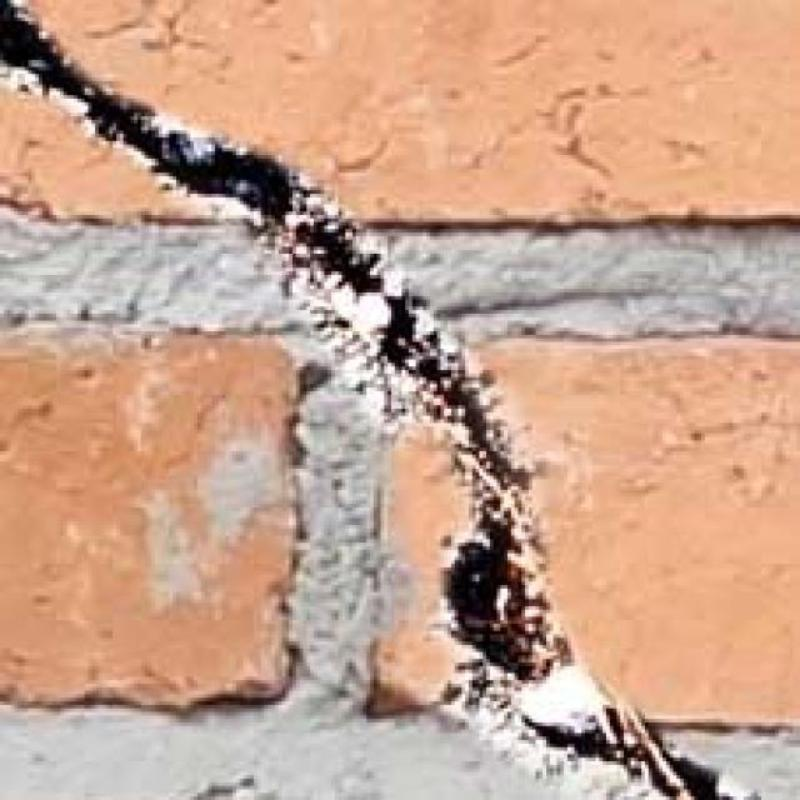crack: (1, 0, 572, 688), (520, 703, 725, 800)
